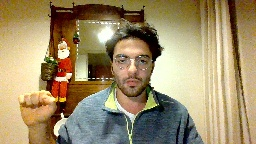Pugno: (16, 88, 60, 125)
